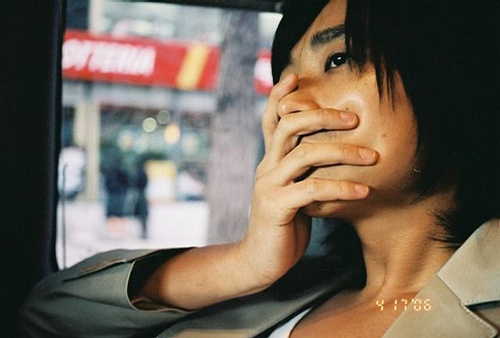face: (275, 2, 401, 218)
